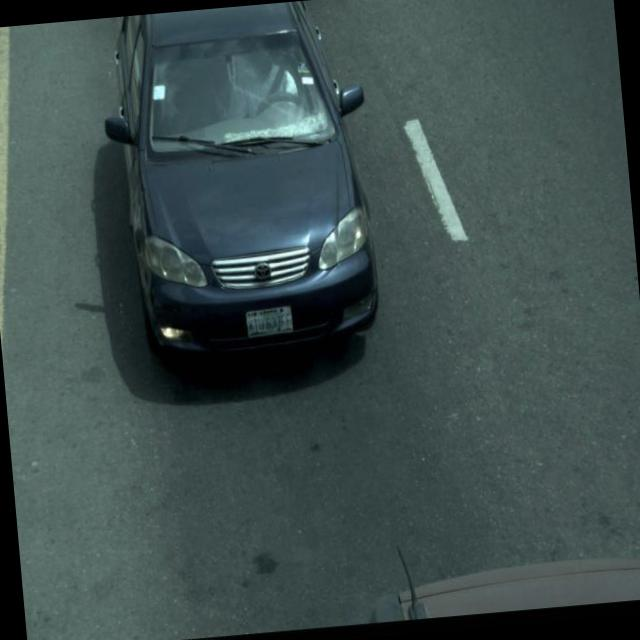person_with_seatbelt: (225, 34, 310, 120)
